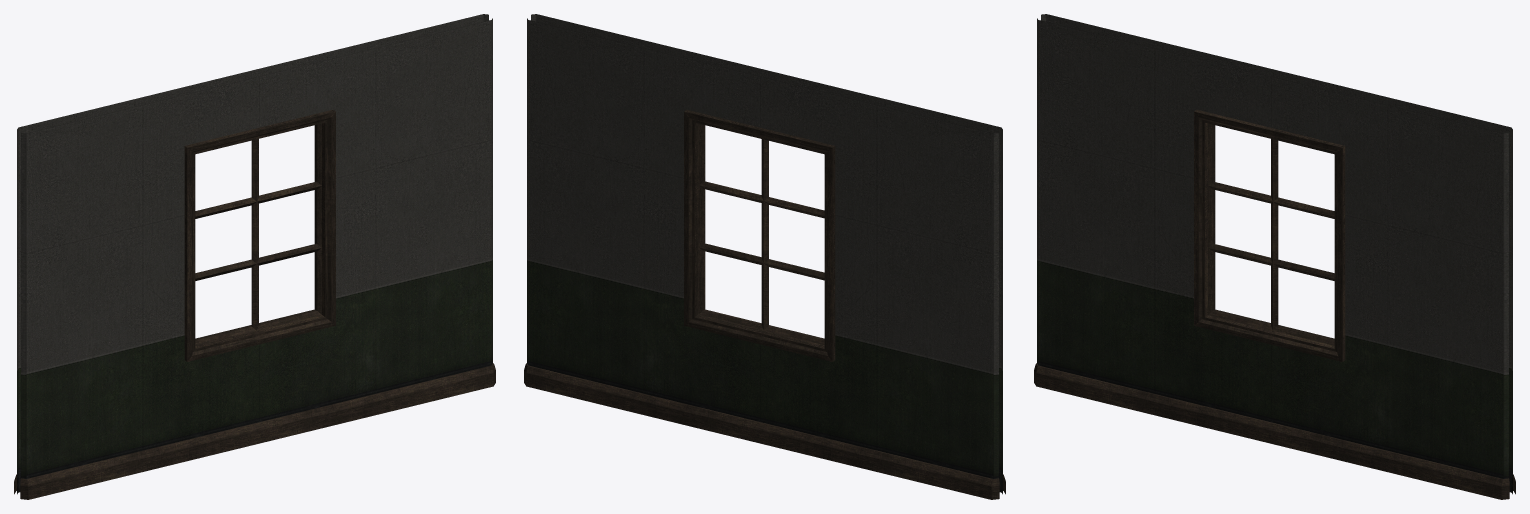
The model's file is window_2_1_single_no_glass.obj.
3 renders of one model, left to right at view 1: azimuth 30°, elevation 25°; view 2: azimuth 150°, elevation 25°; view 3: azimuth 330°, elevation 25°, orthographic.
Parts seen in each view (by area): view 1: window_2_1_single_no_glass; view 2: window_2_1_single_no_glass; view 3: window_2_1_single_no_glass.
Part boxes in pixels (x1,y1,x2,y2): window_2_1_single_no_glass: (14,14,495,499); window_2_1_single_no_glass: (524,14,1005,499); window_2_1_single_no_glass: (1034,14,1515,499).
Bounding box in the file's own units: 4.09 × 3 × 0.2.
